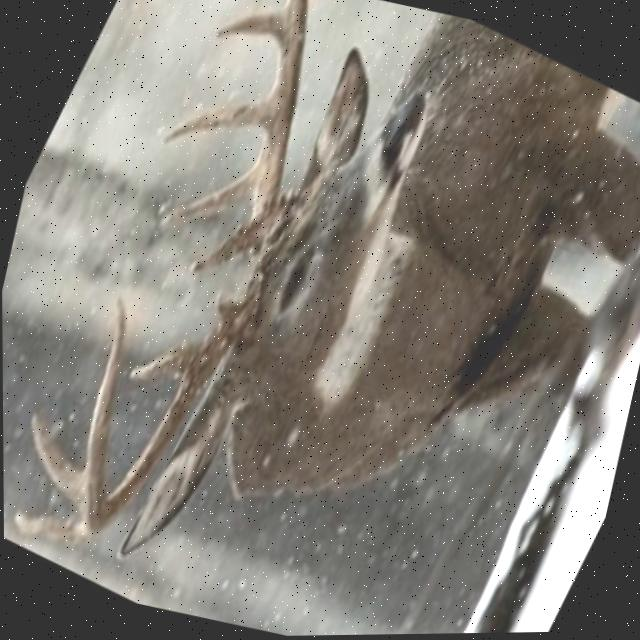L-F: (244, 0, 308, 260)
L-G1: (186, 221, 247, 276)
L-G2: (147, 162, 254, 241)
L-G3: (159, 92, 269, 148)
L-G4: (212, 5, 284, 46)
R-F: (78, 289, 243, 536)
R-G1: (208, 288, 236, 324)
R-G2: (123, 336, 207, 388)
R-G3: (9, 508, 88, 549)
R-G4: (26, 409, 82, 517)
